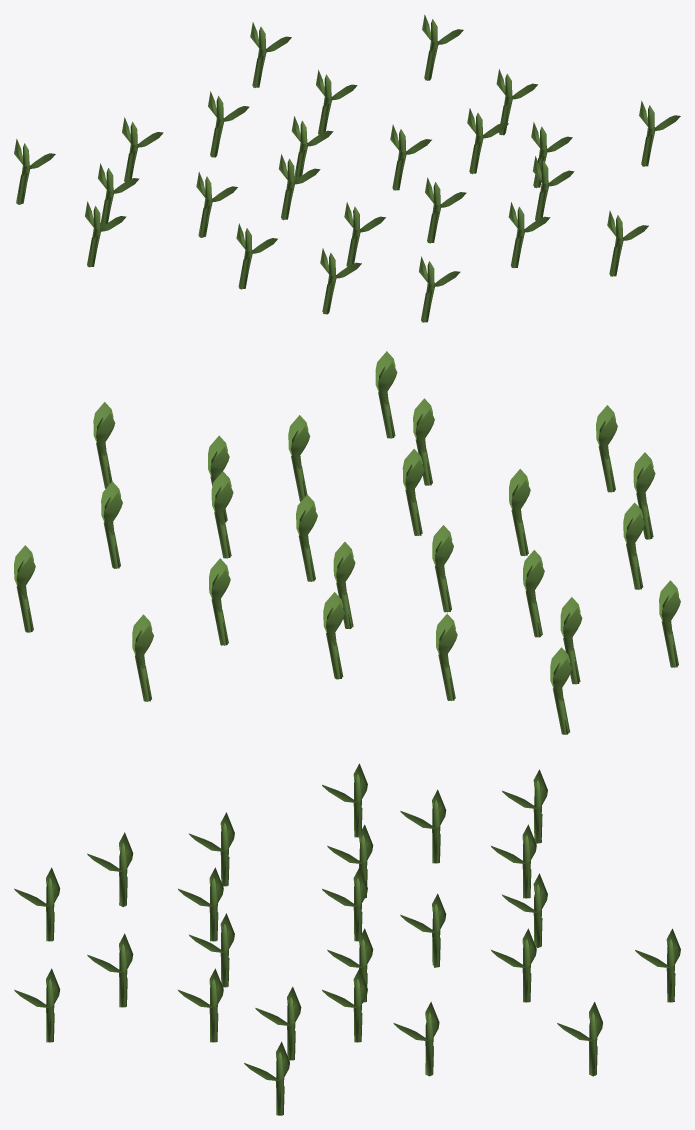
File: Wheat-1.fbx
3 renders of one model, top to bottom at view 1: azimuth 30°, elevation 25°; view 2: azimuth 150°, elevation 25°; view 3: azimuth 270°, elevation 25°, orthographic. The views are drawn at different scales.
Visible parts, largest first — view 1: Cube.002, Cube.009, Cube.005, Cube.004, Cube.015, Cube.029, Cube.008, Cube.026, Cube.016, Cube.018, Cube.024, Cube.028 (+12 smaller); view 2: Cube.008, Cube.023, Cube.006, Cube.028, Cube.020, Cube.002, Cube.015, Cube.004, Cube.029, Cube.021, Cube.018, Cube.026 (+12 smaller); view 3: Cube.020, Cube.001, Cube.009, Cube.025, Cube.022, Cube.008, Cube.024, Cube.002, Cube.019, Cube.021, Cube.006, Cube.016 (+12 smaller).
Part boxes in pixels (x1=…): Cube.002: x1=419, y1=256, x2=460, y2=322; Cube.009: x1=508, y1=202, x2=550, y2=268; Cube.005: x1=425, y1=177, x2=466, y2=243; Cube.004: x1=279, y1=154, x2=320, y2=220; Cube.015: x1=208, y1=91, x2=249, y2=157; Cube.029: x1=85, y1=201, x2=126, y2=267; Cube.008: x1=607, y1=211, x2=648, y2=276; Cube.026: x1=196, y1=172, x2=237, y2=237; Cube.016: x1=250, y1=22, x2=291, y2=87; Cube.018: x1=390, y1=124, x2=431, y2=190; Cube.024: x1=639, y1=100, x2=680, y2=166; Cube.028: x1=14, y1=139, x2=55, y2=204; Cube.008: x1=375, y1=351, x2=397, y2=438; Cube.023: x1=623, y1=502, x2=644, y2=589; Cube.006: x1=211, y1=471, x2=233, y2=558; Cube.028: x1=550, y1=647, x2=571, y2=734; Cube.020: x1=101, y1=481, x2=122, y2=568; Cube.002: x1=596, y1=405, x2=617, y2=492; Cube.015: x1=323, y1=592, x2=344, y2=679; Cube.004: x1=432, y1=525, x2=453, y2=612; Cube.029: x1=659, y1=580, x2=680, y2=667; Cube.021: x1=14, y1=545, x2=35, y2=632; Cube.018: x1=296, y1=494, x2=317, y2=581; Cube.026: x1=523, y1=550, x2=544, y2=637; Cube.020: x1=393, y1=1001, x2=439, y2=1076; Cube.001: x1=87, y1=832, x2=133, y2=906; Cube.009: x1=87, y1=933, x2=133, y2=1007; Cube.025: x1=400, y1=789, x2=446, y2=863; Cube.022: x1=255, y1=986, x2=301, y2=1060; Cube.008: x1=14, y1=968, x2=60, y2=1042; Cube.024: x1=244, y1=1041, x2=289, y2=1115; Cube.002: x1=14, y1=867, x2=60, y2=941; Cube.019: x1=400, y1=893, x2=446, y2=967; Cube.021: x1=557, y1=1002, x2=602, y2=1076; Cube.006: x1=322, y1=968, x2=367, y2=1042; Cube.016: x1=635, y1=928, x2=680, y2=1002.
Bounding box in the file's own units: 167 × 19.19 × 161.
